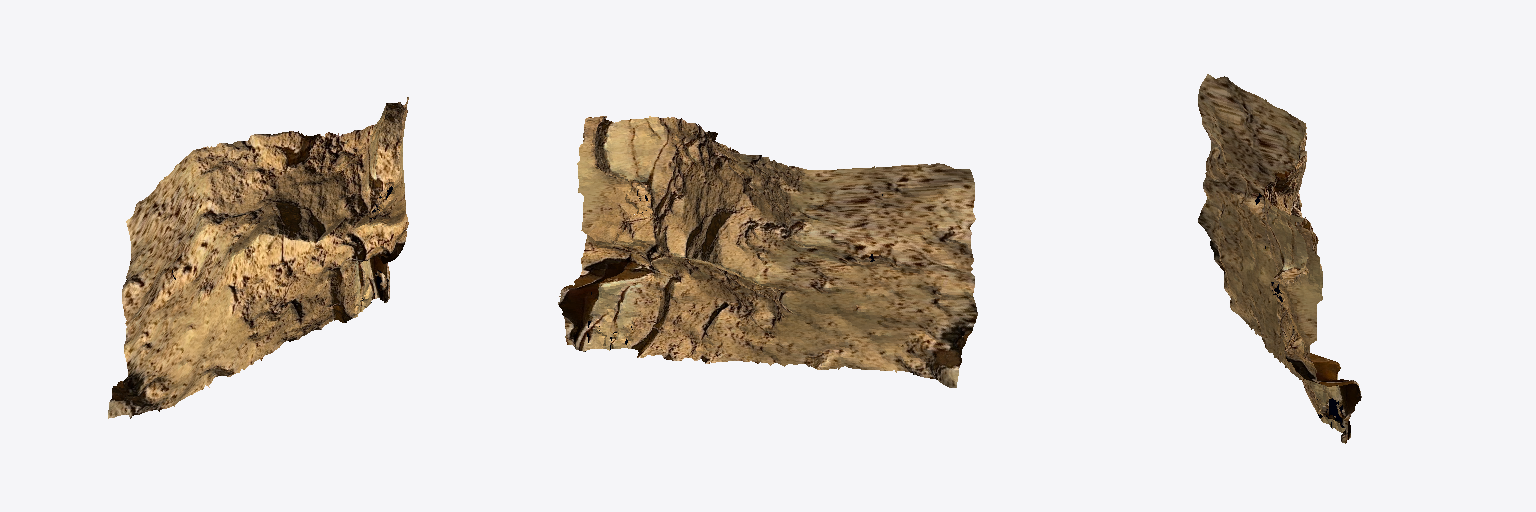
3 views of the same model, side by side, from view 1: azimuth 30°, elevation 25°; view 2: azimuth 150°, elevation 25°; view 3: azimuth 270°, elevation 25° (orthographic).
Size of the model in its own units: 1.85 by 1.14 by 0.7733.
1 materials, 1 textured.